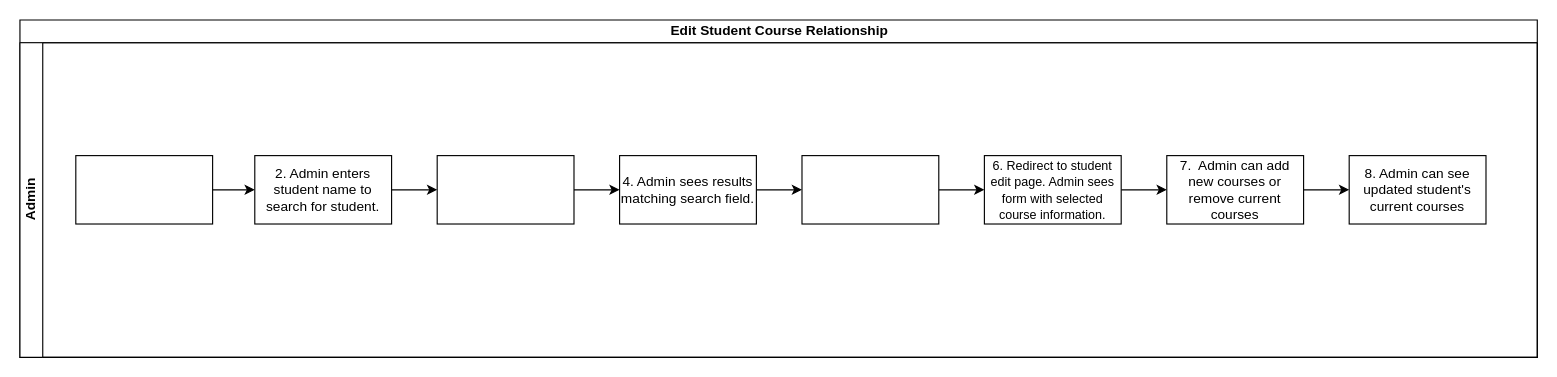
Some shapes in this 1557 by 377 pixel diagram are drawn without their labels. Here are the shapes that lost their labels. From the top down, the centre of each, then its label:
(x=144, y=189): 1. Admin navigates to "Edit students taking courses" search box.
(x=505, y=189): 3. Admin presses search button to the right of the search box.
(x=870, y=189): 5. Admin presses edit button in same row as student to edit.
